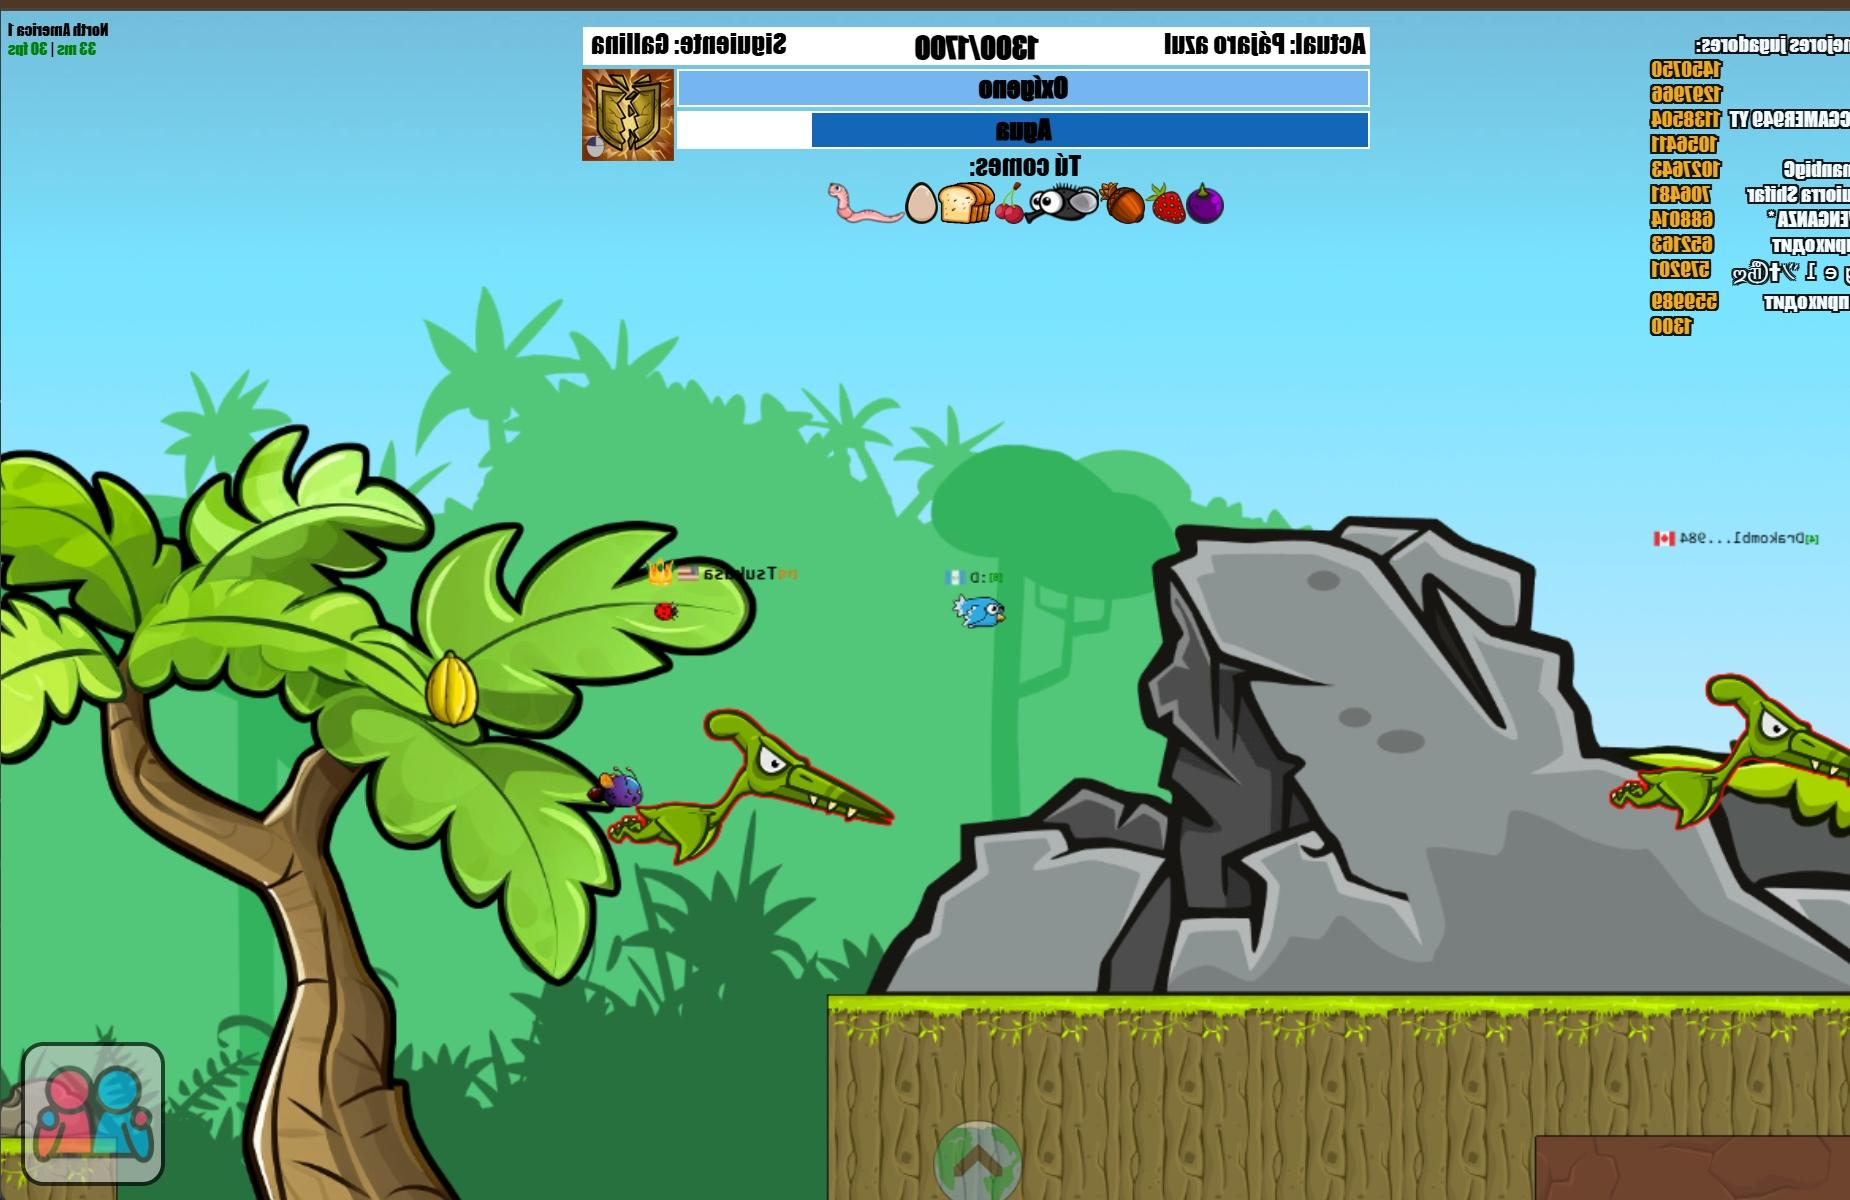arandano: (1186, 183, 1225, 223)
avellana: (1101, 183, 1146, 223)
cacao: (426, 649, 478, 725)
fresa: (1153, 191, 1186, 223)
guinda: (996, 181, 1024, 223)
gusano: (829, 183, 902, 222)
huevo: (906, 182, 938, 223)
mariquita: (653, 604, 678, 622)
mascota: (590, 767, 643, 809)
mosca: (1027, 185, 1099, 221)
p_azul: (954, 595, 1005, 627)
pan: (940, 183, 994, 223)
pterodactilo: (608, 709, 894, 864), (1624, 666, 1850, 820)
